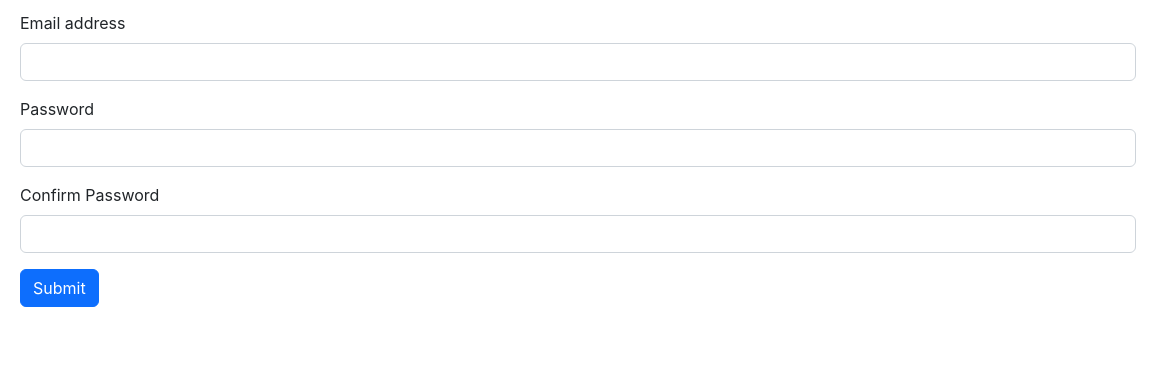
it: should show confirm password error if passwords don't match
In the field labelled "Email address": (578, 62) [20,43,1136,81], type "selena@gmail.com"
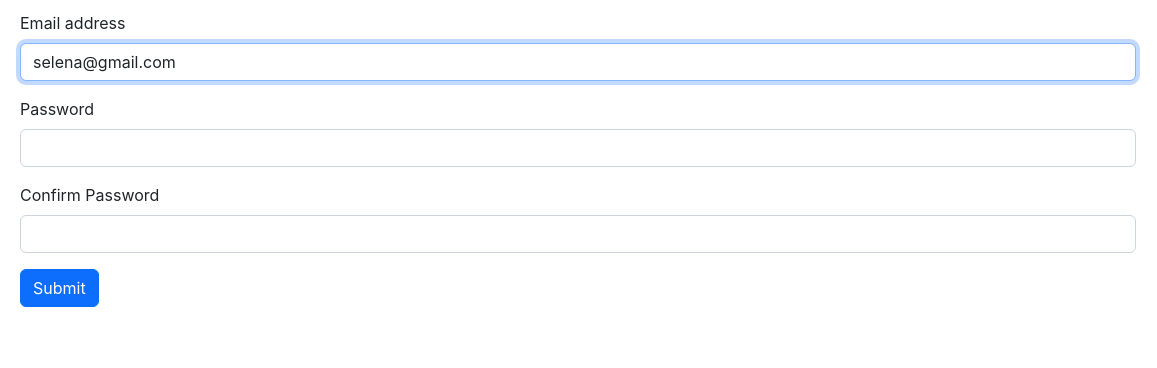
In the password field labelled "Password": (578, 148) [20,129,1136,167], type "12345"
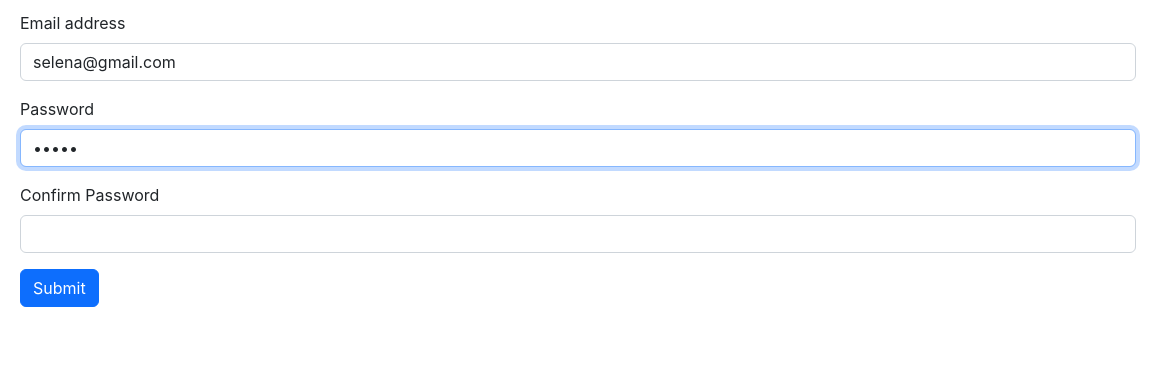
Expected: the text "the passwords don't match, Try again" is not shown
Click the button "Submit": (59, 288) [20,269,99,307]
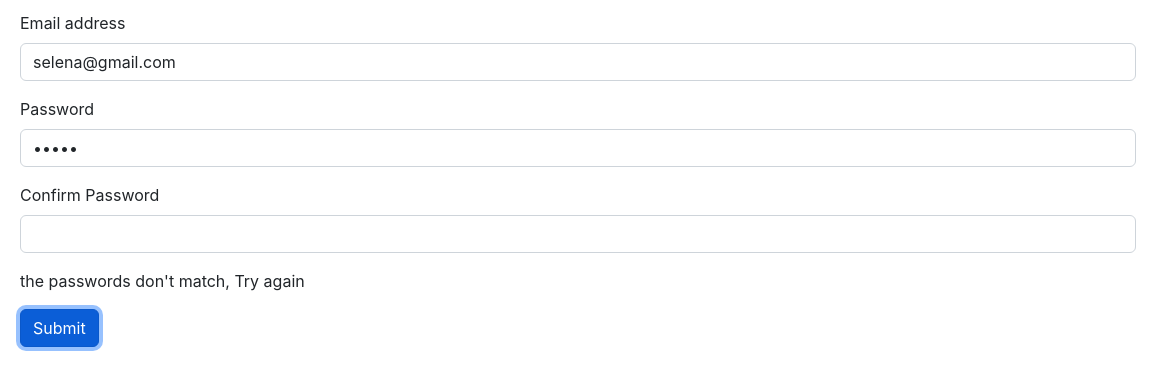
Expected: the text "the passwords don't match, Try again" is shown, [20,271,305,291]
